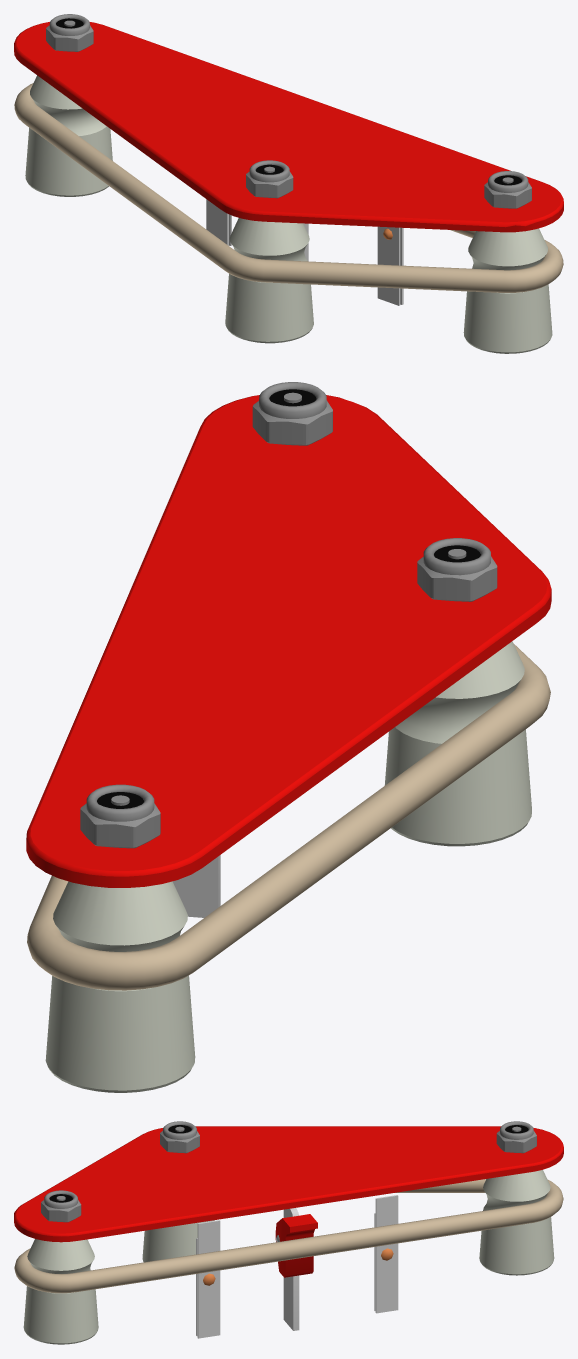
Rendered from slingshot.fbx.
The picture shows the model from 3 angles, top to bottom: view 1: azimuth 30°, elevation 25°; view 2: azimuth 150°, elevation 25°; view 3: azimuth 270°, elevation 25°; orthographic projection. The views are drawn at different scales.
Visible parts, largest first — view 1: slingshot left; view 2: slingshot left; view 3: slingshot left.
Boxes of the visible parts, <box> form: slingshot left: <box>14,14,563,353</box>; slingshot left: <box>26,382,551,1092</box>; slingshot left: <box>14,1121,563,1344</box>.
Size of the model in its own units: 0.0612 by 0.0418 by 0.1306.
